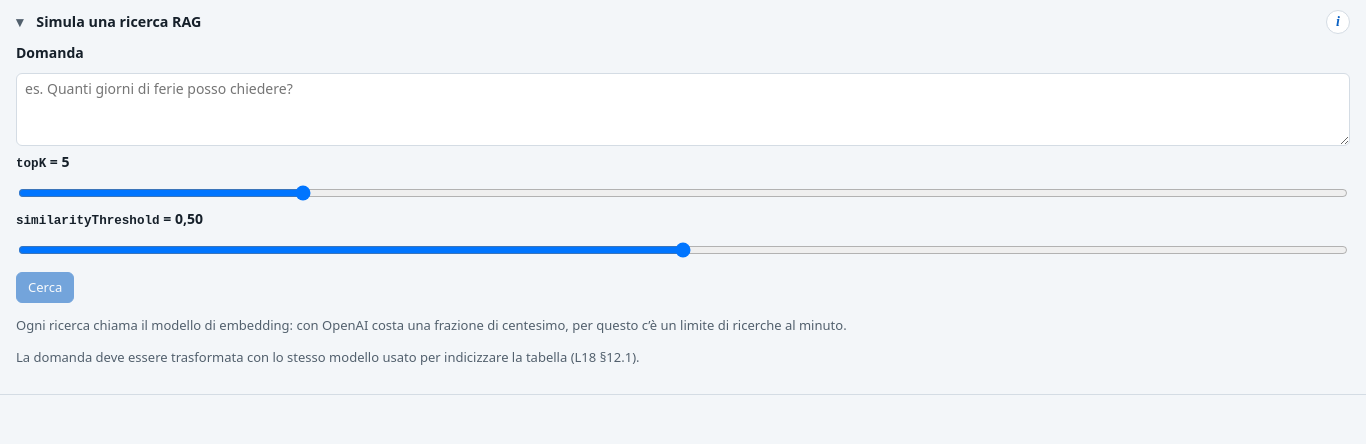
Scenario: RagSearchSection › shows a loading state while searching
Type "Quante ferie?" into the text box labelled "Domanda" at point(683, 109), box [16,73,1350,146]
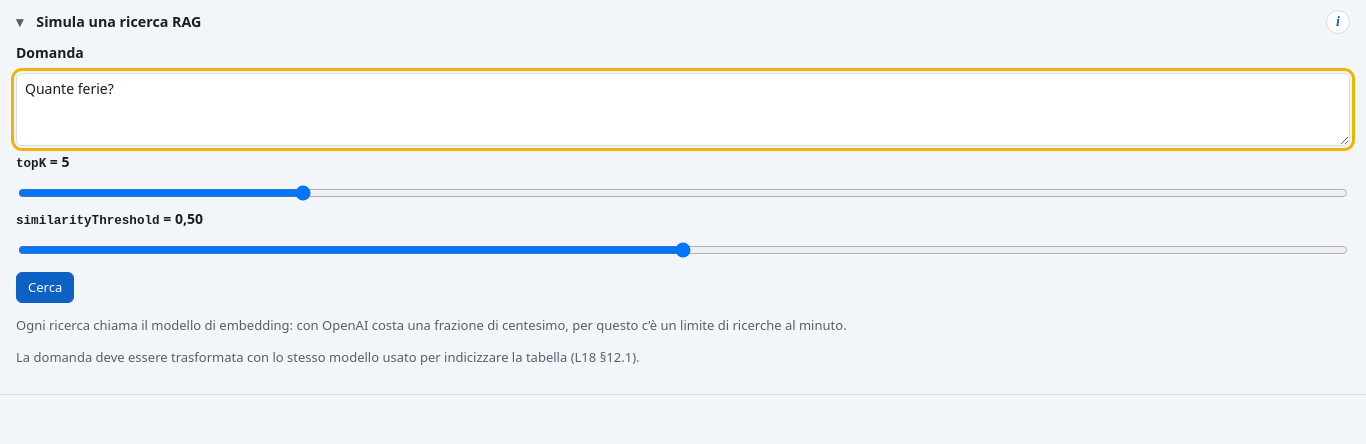
Click the button "Cerca" at point(45, 288), box [16,272,74,303]
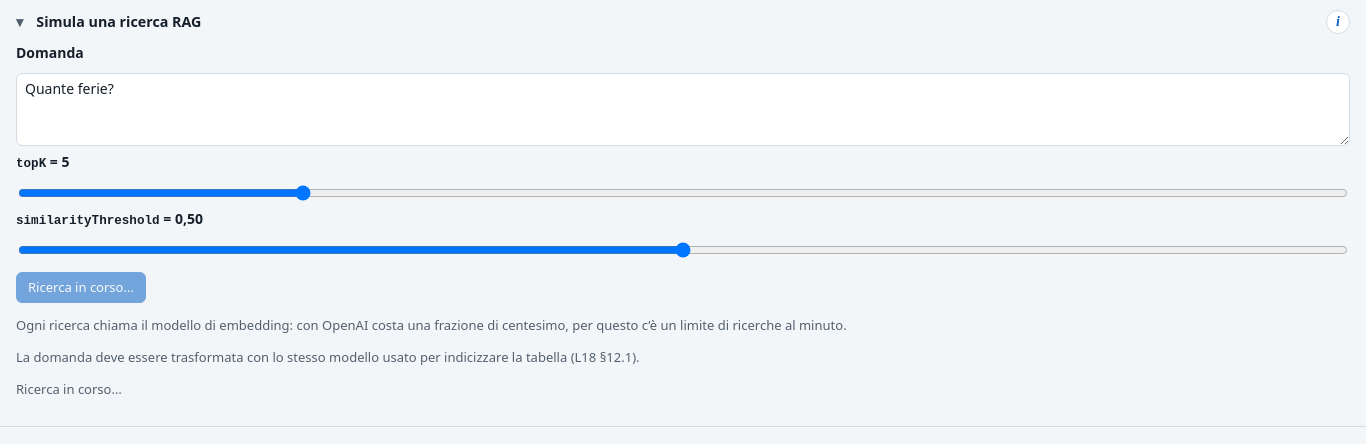
Check: the button "Ricerca in corso…" is shown, box [16,272,146,303]
